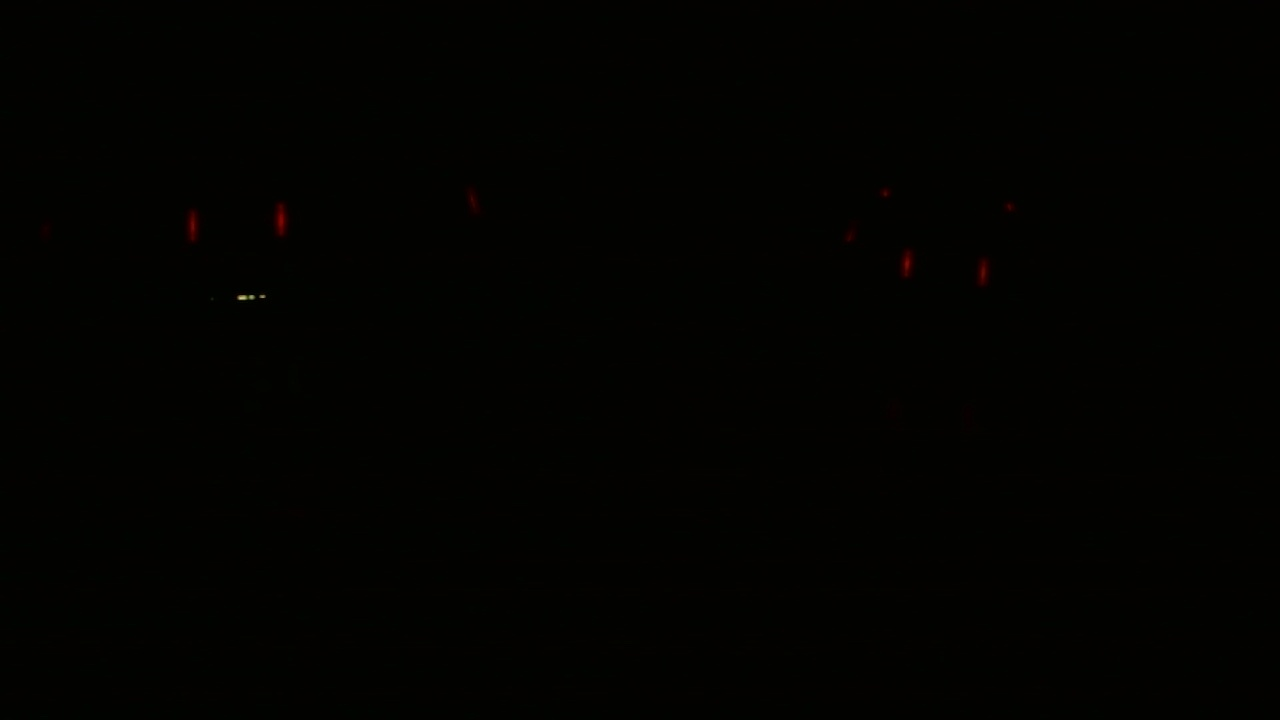pair1: (177, 190, 300, 260)
pair2: (891, 241, 1003, 301)
